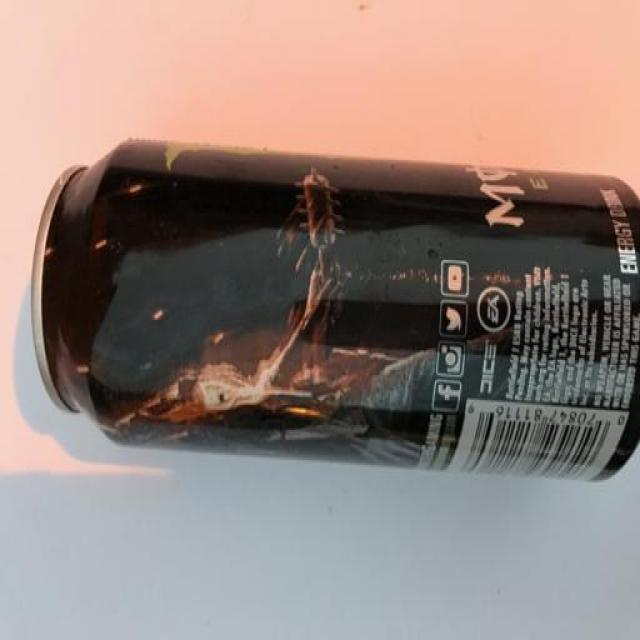metel: (16, 91, 640, 533)
